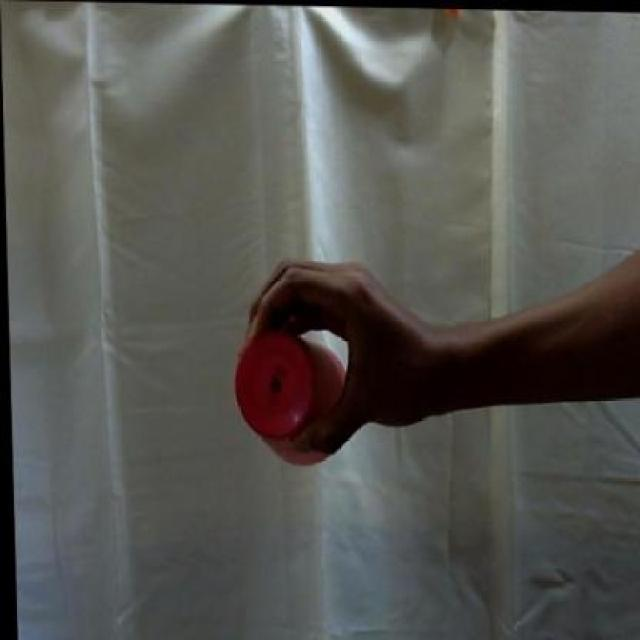Plastic: (227, 316, 358, 485)
